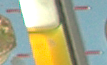border: (71, 5, 94, 11), (82, 50, 104, 56), (15, 52, 33, 59), (5, 8, 22, 14)
liquidlevel: (26, 24, 65, 36)
